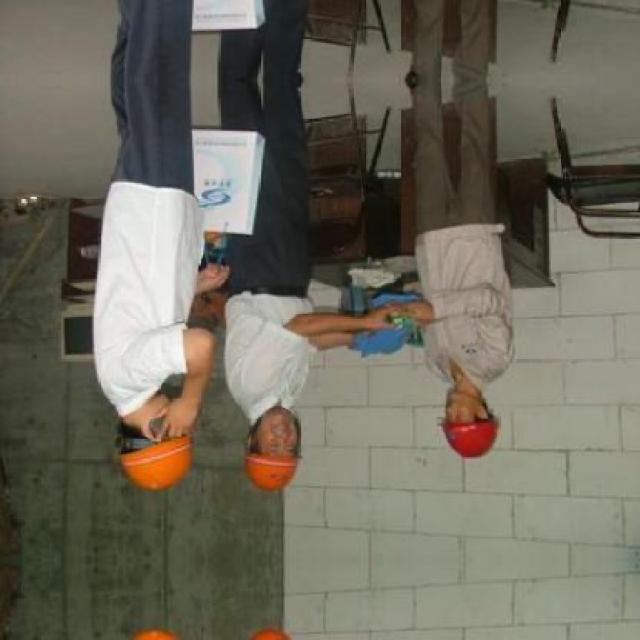con casco: (112, 368, 218, 484), (393, 388, 519, 468), (218, 389, 307, 497)
